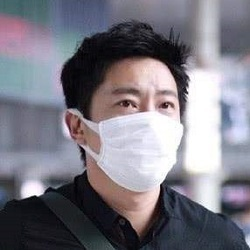mask: (64, 104, 188, 194)
